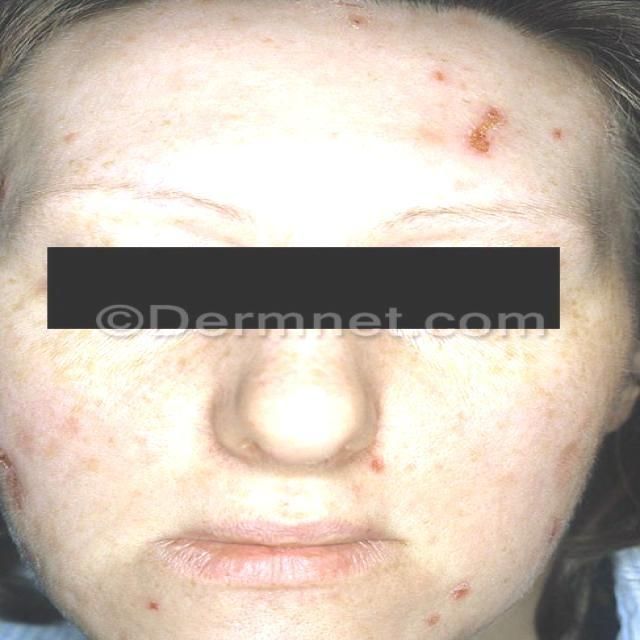Rosacea: (4, 381, 160, 563), (398, 51, 578, 173)
